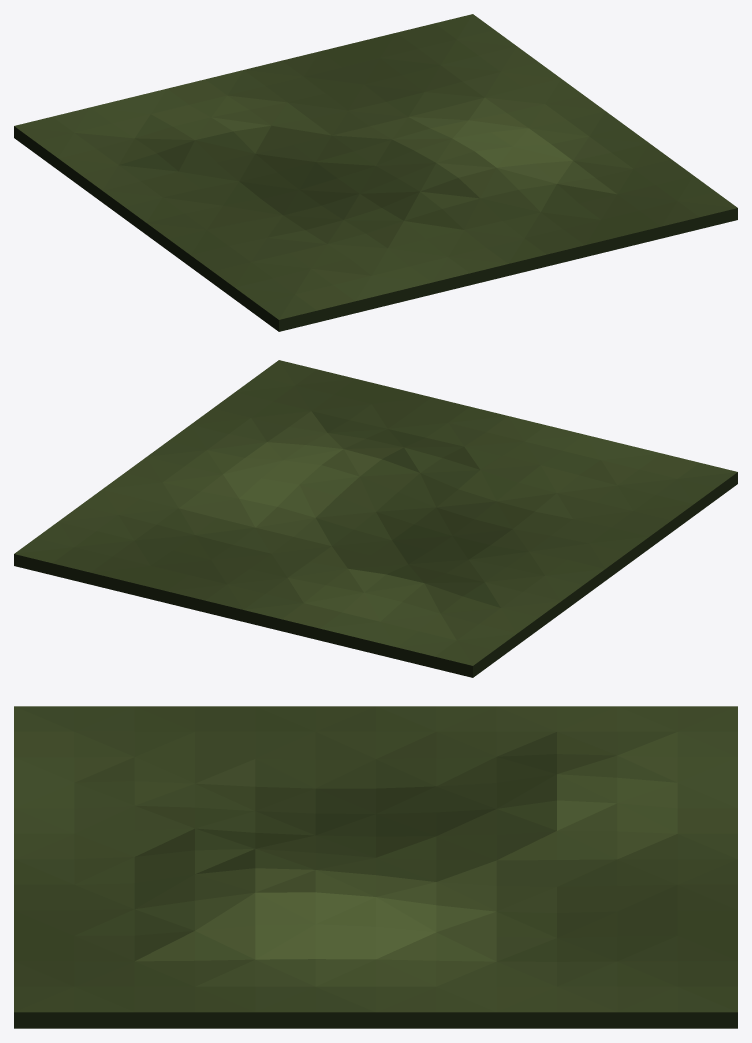
File: grass-ground-tile-131ec0.fbx
3 views of the same model, one above another, from view 1: azimuth 30°, elevation 25°; view 2: azimuth 150°, elevation 25°; view 3: azimuth 270°, elevation 25° (orthographic). The views are drawn at different scales.
Visible parts, largest first — view 1: grass-ground-tile-mesh; view 2: grass-ground-tile-mesh; view 3: grass-ground-tile-mesh.
Part boxes in pixels (<box>): grass-ground-tile-mesh: <box>14,14,737,331</box>; grass-ground-tile-mesh: <box>14,360,737,677</box>; grass-ground-tile-mesh: <box>14,706,737,1028</box>.
Bounding box in the file's own units: 2 × 0.1046 × 2.
